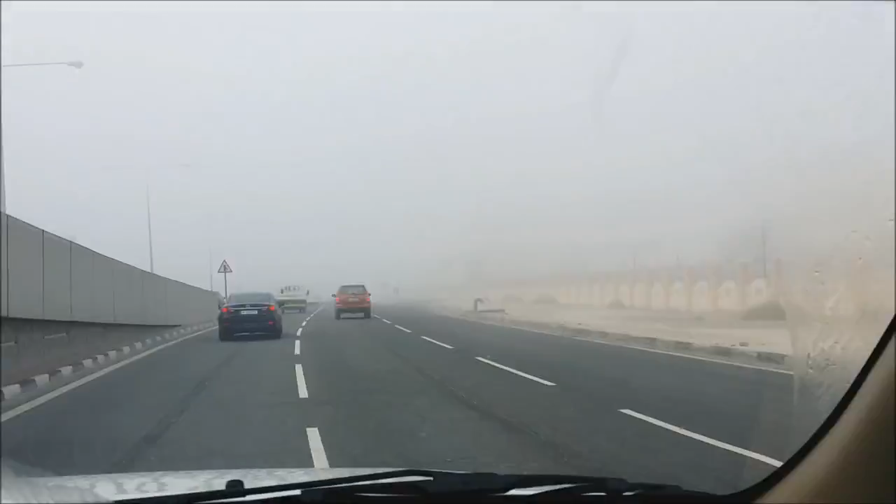bus: (275, 284, 310, 314)
car: (217, 290, 285, 340), (331, 282, 373, 320)
